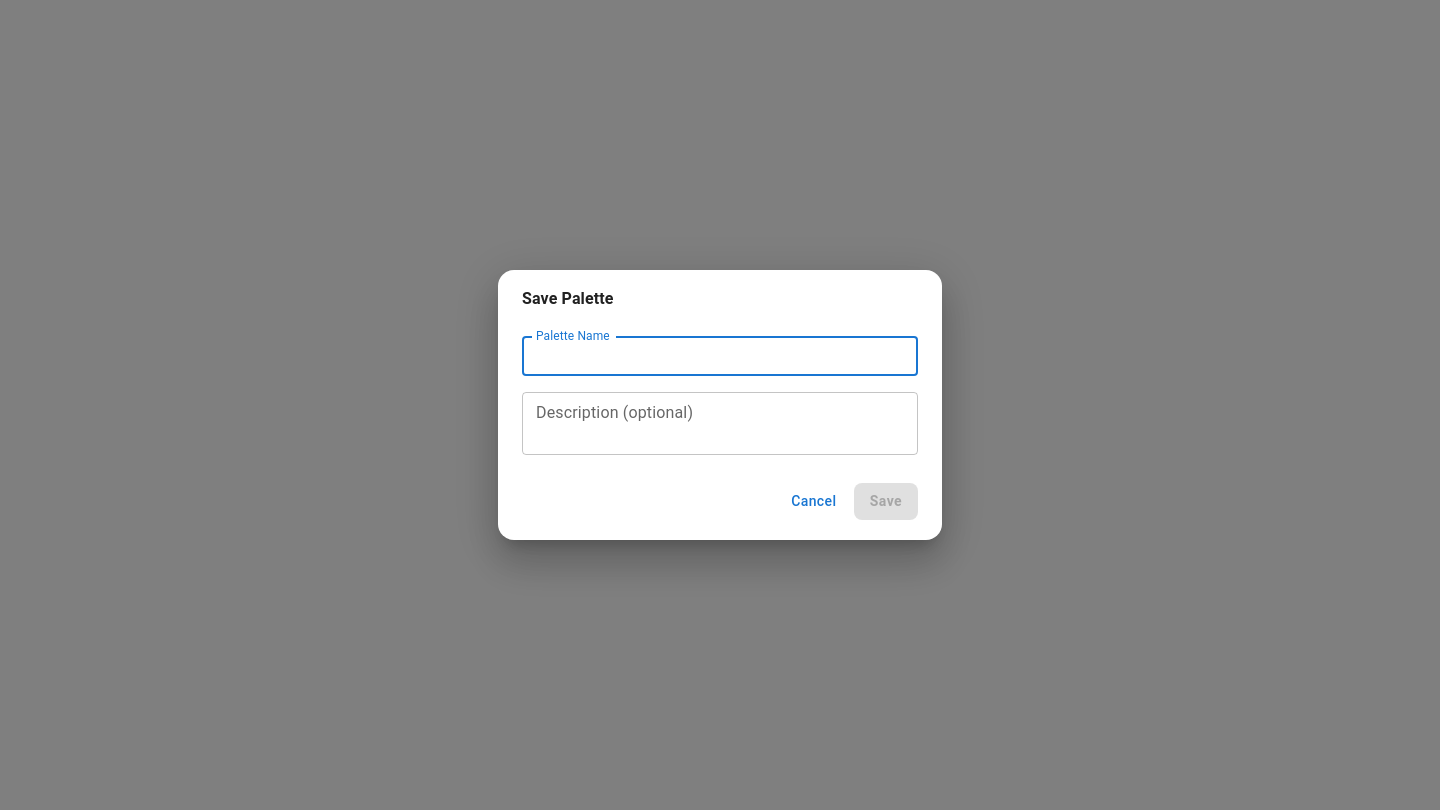
it: SavePaletteDialog › shows error on save failure
Type "Test" into the field labelled "Palette Name" at coordinates (720, 356), box [522,336,918,376]
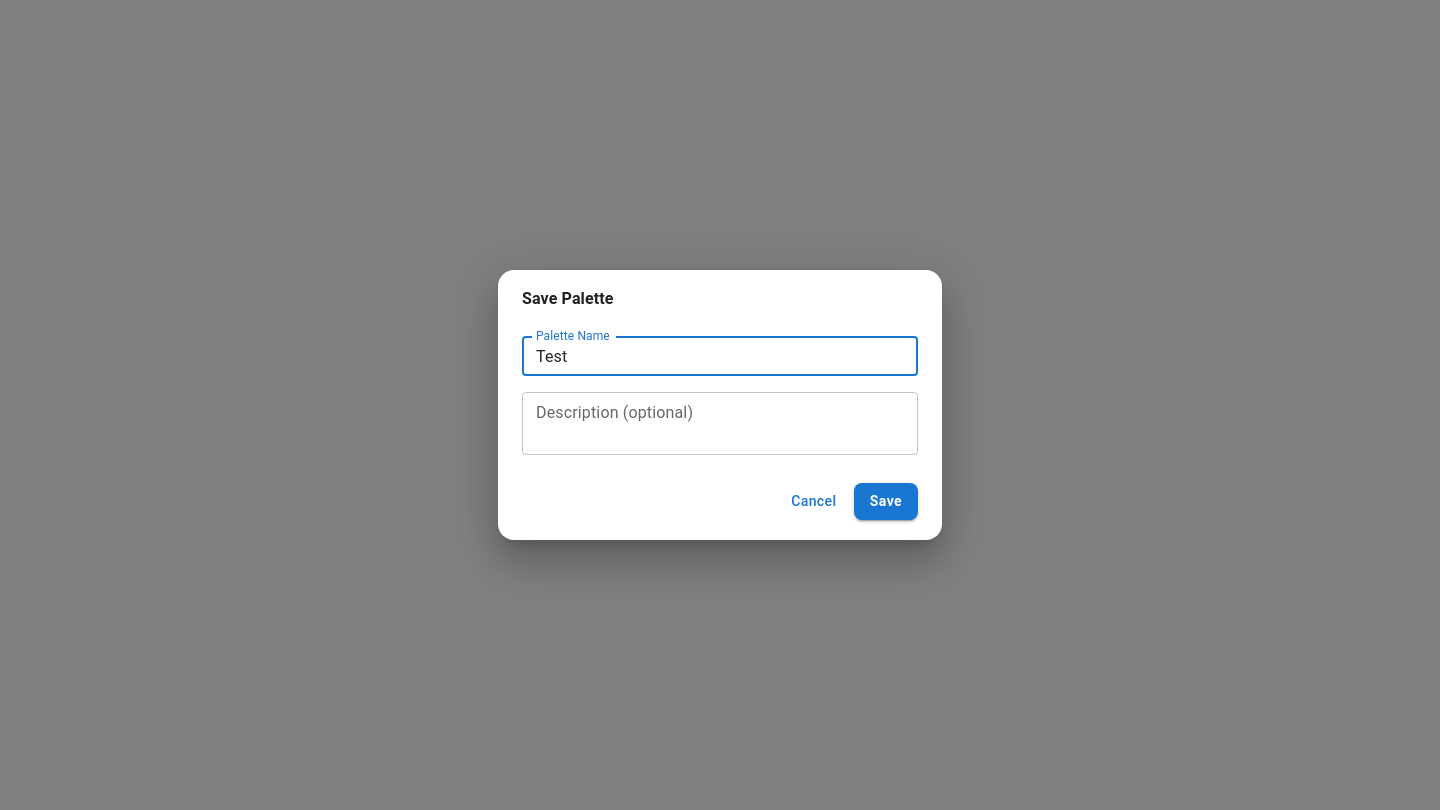
Click the button "Save" at coordinates (886, 501), box [854,483,918,520]
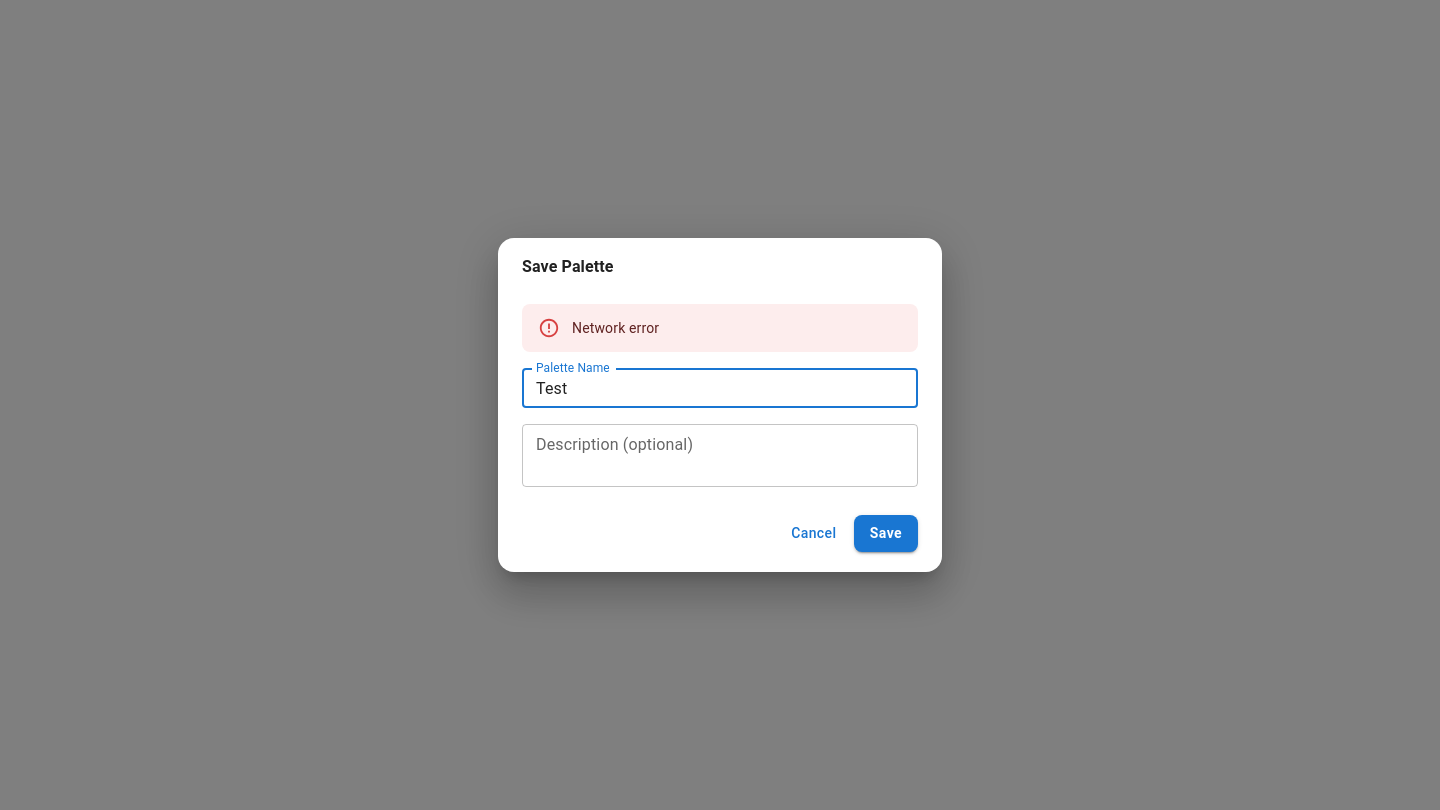
Expected: the text "Network error" is shown, [572,320,659,336]
